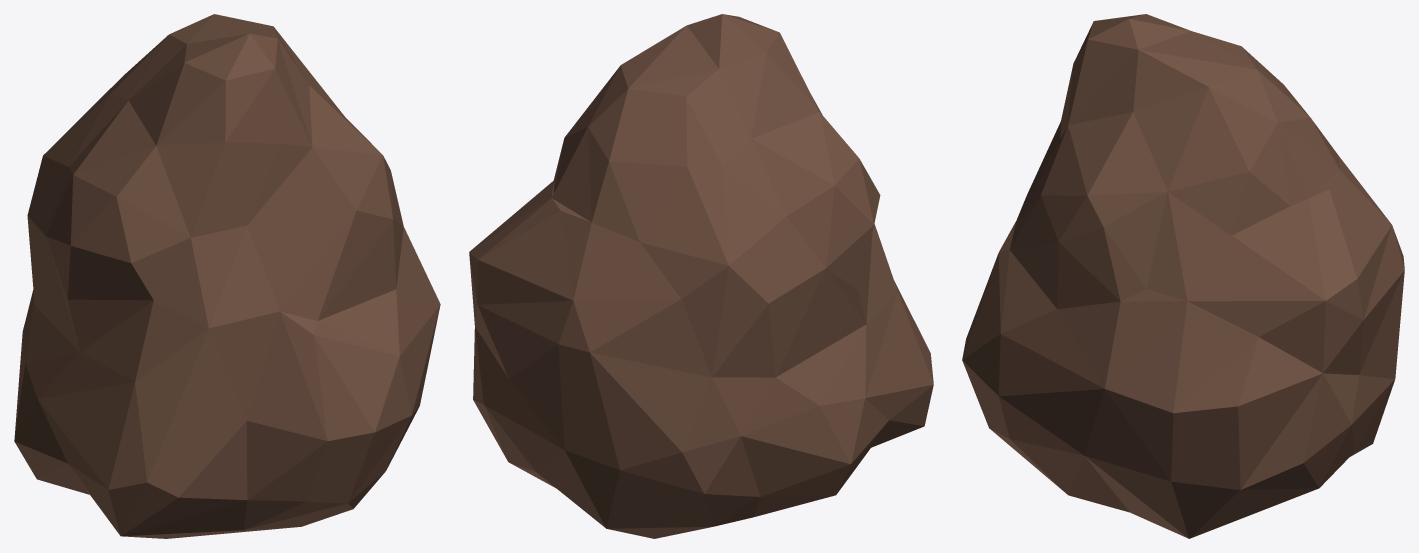
File: boulder_rock2.glb
3 views of the same model, side by side, from view 1: azimuth 30°, elevation 25°; view 2: azimuth 150°, elevation 25°; view 3: azimuth 270°, elevation 25° (orthographic). The views are drawn at different scales.
Visible parts, largest first — view 1: boulder_rock2; view 2: boulder_rock2; view 3: boulder_rock2.
Part boxes in pixels (x1,y1,x2,y2): boulder_rock2: (14, 14, 440, 538); boulder_rock2: (469, 14, 933, 538); boulder_rock2: (962, 14, 1404, 538).
Bounding box in the file's own units: 12.74 × 15.28 × 13.11.
